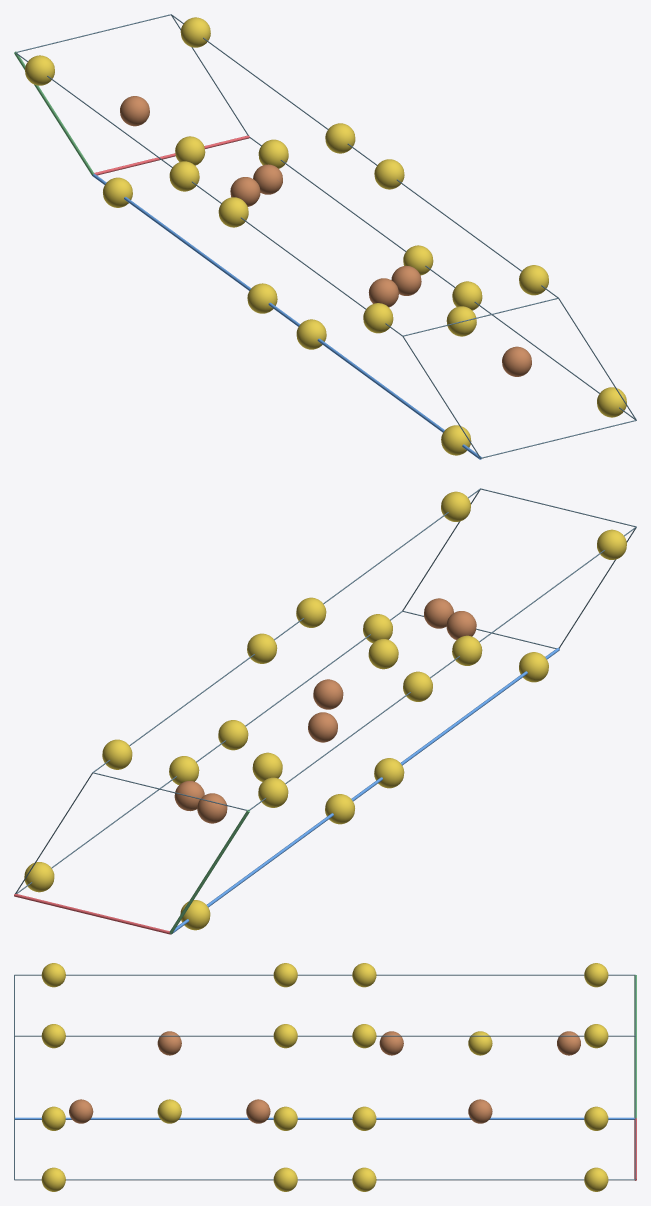
File: chat-covellite.glb
3 views of the same model, one above another, from view 1: azimuth 30°, elevation 25°; view 2: azimuth 150°, elevation 25°; view 3: azimuth 270°, elevation 25° (orthographic). The views are drawn at different scales.
Parts seen in each view (by area): view 1: S2 · S · 1 (×16), Ô mạng và các trục a, b, c, Cu2 · Cu · 1 (×4), S1 · S · 1 (×2), Cu1 · Cu · 1 (×2); view 2: S2 · S · 1 (×16), Ô mạng và các trục a, b, c, Cu2 · Cu · 1 (×4), S1 · S · 1 (×2), Cu1 · Cu · 1 (×2); view 3: S2 · S · 1 (×16), Ô mạng và các trục a, b, c, Cu2 · Cu · 1 (×4), S1 · S · 1 (×2), Cu1 · Cu · 1 (×2).
Part boxes in pixels (left/top/right/bottom): S2 · S · 1 (×16): left=25, top=17, right=626, bottom=455; Ô mạng và các trục a, b, c: left=14, top=14, right=636, bottom=459; Cu2 · Cu · 1 (×4): left=120, top=96, right=531, bottom=376; S1 · S · 1 (×2): left=175, top=136, right=476, bottom=336; Cu1 · Cu · 1 (×2): left=253, top=164, right=398, bottom=307; S2 · S · 1 (×16): left=24, top=491, right=626, bottom=930; Ô mạng và các trục a, b, c: left=14, top=488, right=636, bottom=934; Cu2 · Cu · 1 (×4): left=197, top=598, right=453, bottom=823; S1 · S · 1 (×2): left=252, top=639, right=398, bottom=781; Cu1 · Cu · 1 (×2): left=174, top=611, right=476, bottom=811; S2 · S · 1 (×16): left=41, top=963, right=608, bottom=1191; Ô mạng và các trục a, b, c: left=14, top=974, right=636, bottom=1180; Cu2 · Cu · 1 (×4): left=69, top=1031, right=580, bottom=1123; S1 · S · 1 (×2): left=157, top=1031, right=492, bottom=1123; Cu1 · Cu · 1 (×2): left=157, top=1031, right=492, bottom=1123.
Bounding box in the file's own units: 6.33 × 3.93 × 16.39.
